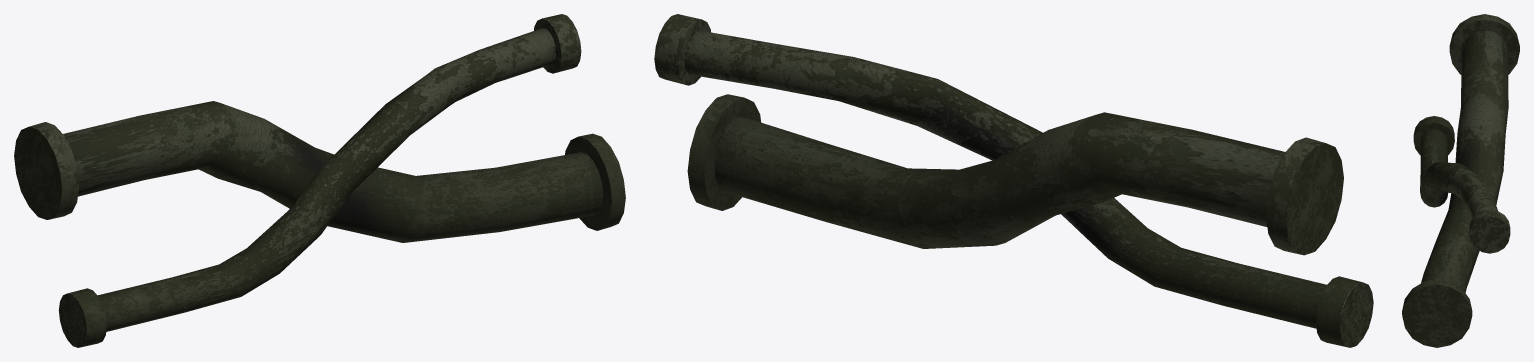
The model's file is pipe.fbx.
3 renders of one model, left to right at view 1: azimuth 30°, elevation 25°; view 2: azimuth 150°, elevation 25°; view 3: azimuth 270°, elevation 25°, orthographic. The views are drawn at different scales.
Visible parts, largest first — view 1: Cylinder; view 2: Cylinder; view 3: Cylinder.
Part boxes in pixels (x1=…): Cylinder: x1=14, y1=14, x2=625, y2=347; Cylinder: x1=654, y1=14, x2=1373, y2=347; Cylinder: x1=1402, y1=14, x2=1519, y2=347.
Size of the model in its own units: 5925 by 2132 by 1562.
